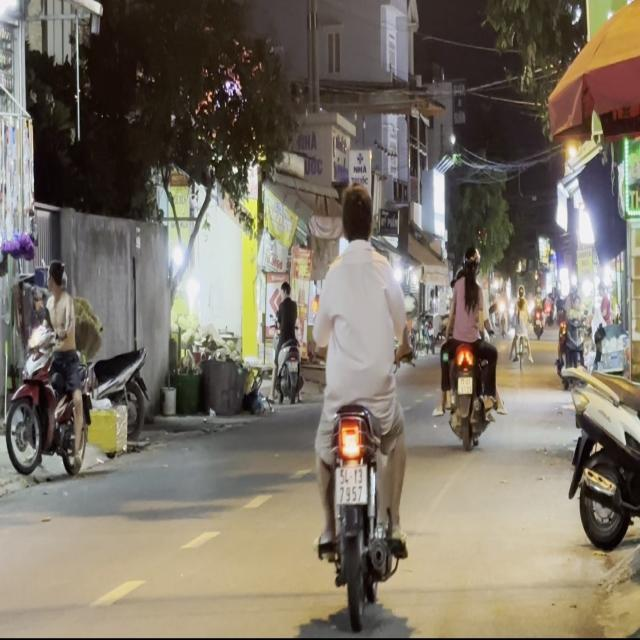helmet: (462, 244, 479, 278)
licenseplate: (307, 178, 414, 626), (3, 254, 97, 486), (436, 241, 501, 449)
motorcyclist: (338, 181, 374, 248), (46, 257, 65, 294)
nohelmet: (335, 464, 367, 503), (458, 377, 472, 394)
